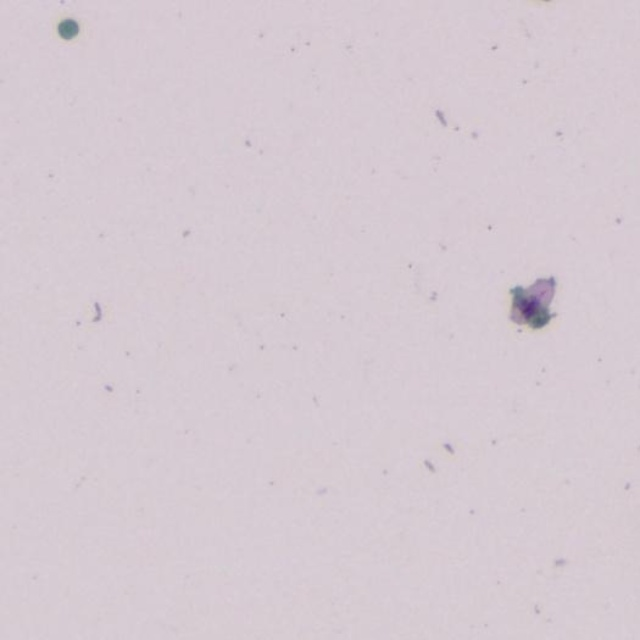non_viable: (57, 18, 78, 39)
